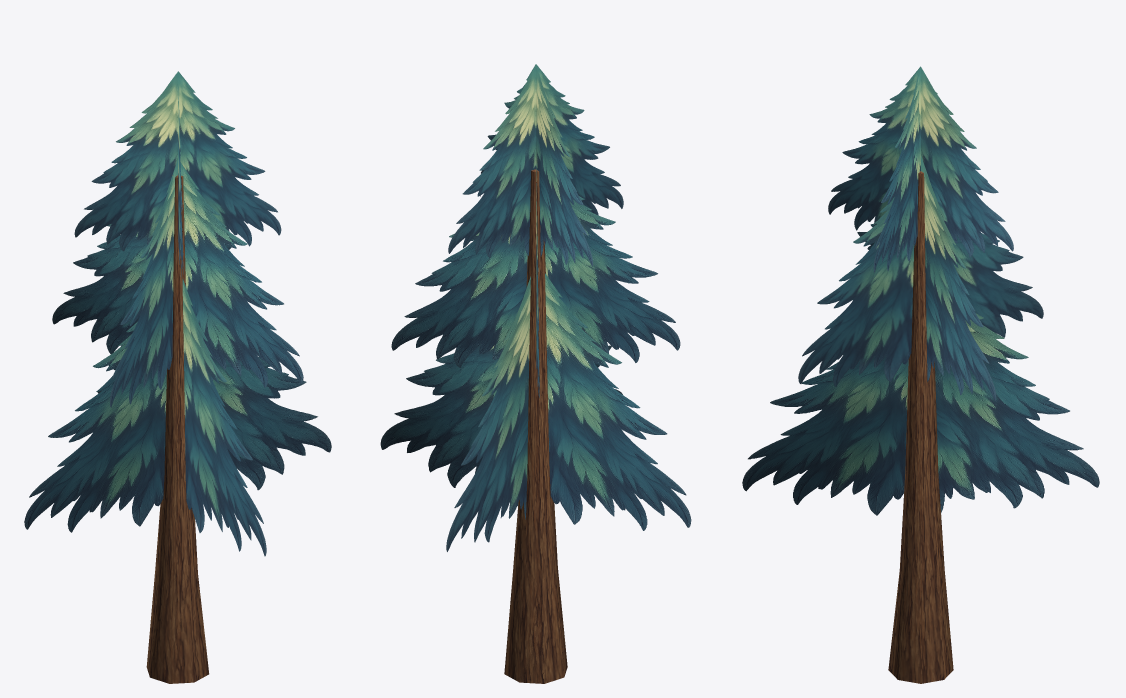
Rendered from tree_conifer.gltf.
3 views of the same model, side by side, from view 1: azimuth 30°, elevation 25°; view 2: azimuth 150°, elevation 25°; view 3: azimuth 270°, elevation 25° (orthographic).
Visible parts, largest first — view 1: tree_conifer; view 2: tree_conifer; view 3: tree_conifer.
Boxes of the visible parts, x1,y1,x2,y2 form: tree_conifer: [24, 71, 331, 683]; tree_conifer: [380, 64, 691, 683]; tree_conifer: [742, 66, 1099, 683].
Bounding box in the file's own units: 3.6 × 6.4 × 3.6.
Materials: 2 (2 with a texture image).
